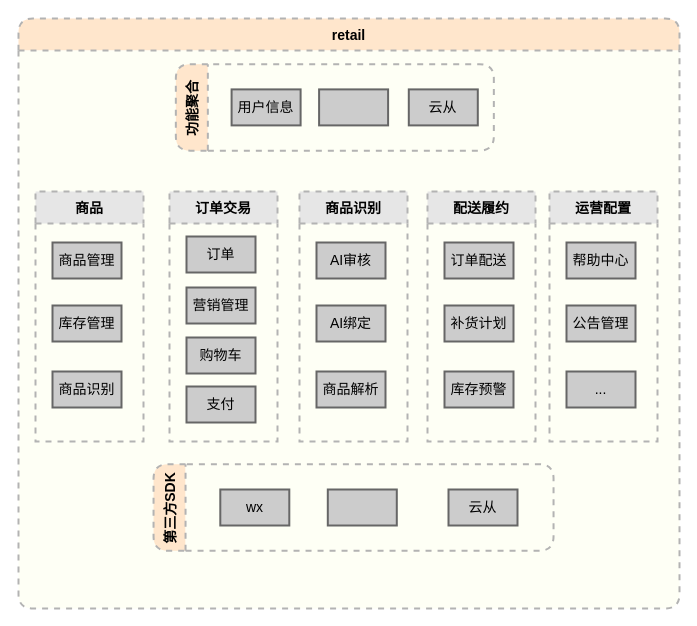
This 697x626 diagram has some shape labels left out. The shapes that lost their labels are listed below. From the top down, each one's centre as x and y in pixels, then its label:
At point (353, 107): "微信支付".
At point (361, 507): "旷世".
